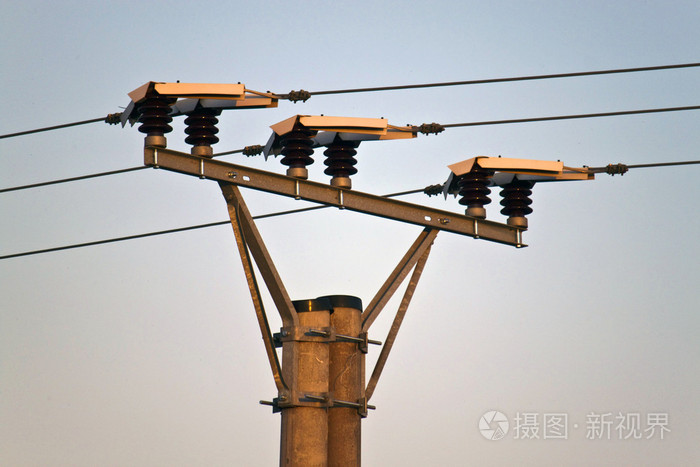insulator: (183, 108, 227, 148), (318, 140, 364, 174), (457, 171, 498, 209), (498, 184, 538, 219), (136, 99, 171, 133), (284, 131, 313, 169)
